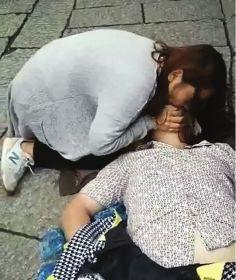Fall-Detected: (10, 90, 226, 279)
